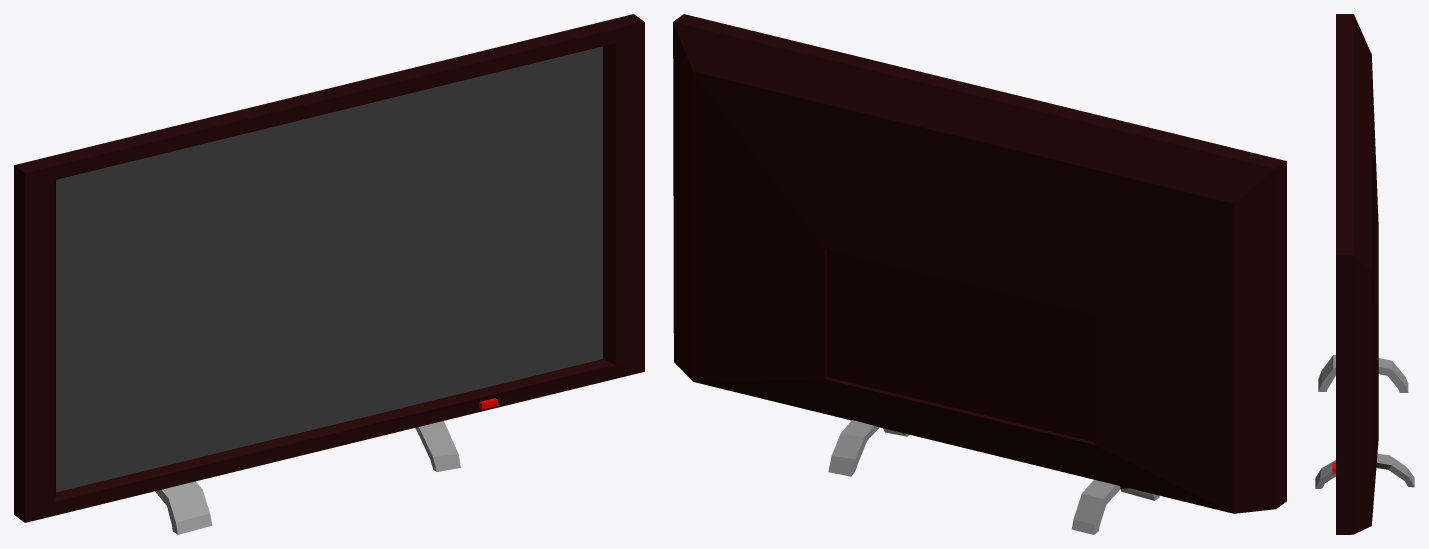
3 views of the same model, side by side, from view 1: azimuth 30°, elevation 25°; view 2: azimuth 150°, elevation 25°; view 3: azimuth 270°, elevation 25° (orthographic). The views are drawn at different scales.
Parts seen in each view (by area): view 1: TV; view 2: TV; view 3: TV.
Boxes of the visible parts, box(x1,y1,x2,y2) form: TV: box(14, 14, 644, 534); TV: box(673, 14, 1286, 534); TV: box(1315, 14, 1414, 534).
Bounding box in the file's own units: 12.8 × 7.67 × 2.23.
1 material, 1 textured.
